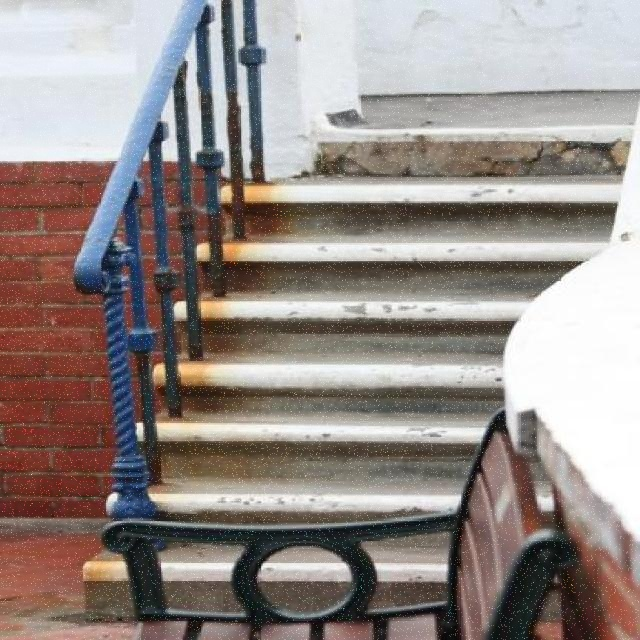stair: (85, 126, 634, 622)
